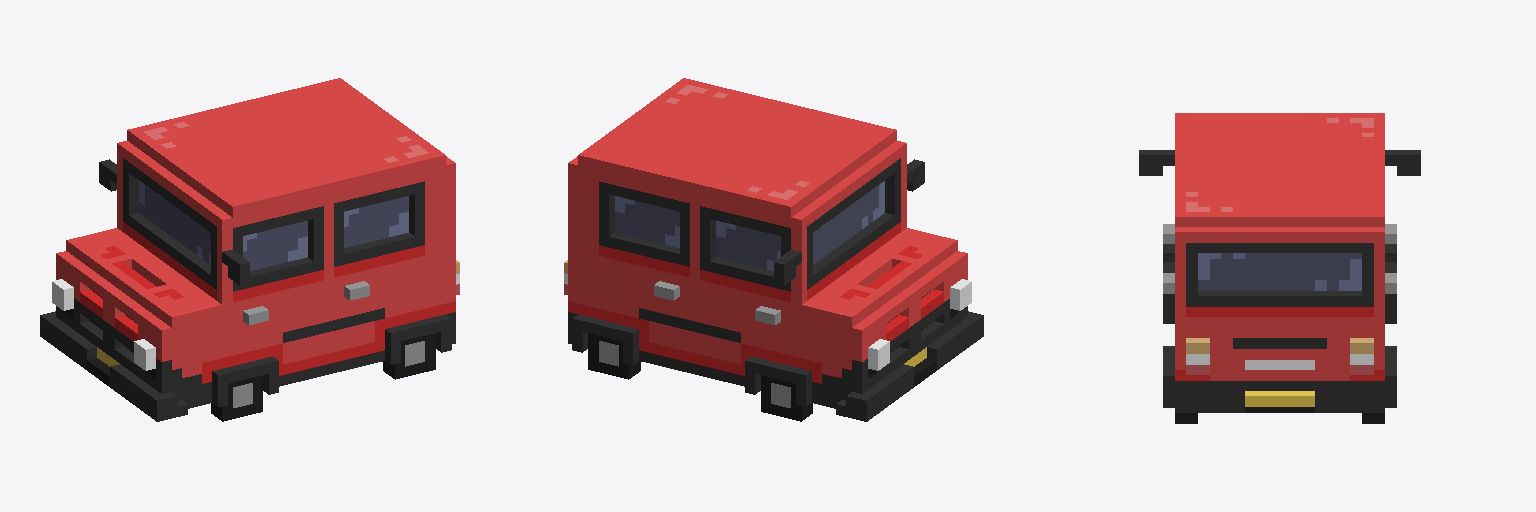
The picture shows the model from 3 angles: view 1: azimuth 30°, elevation 25°; view 2: azimuth 150°, elevation 25°; view 3: azimuth 270°, elevation 25°; orthographic projection.
Parts seen in each view (by area): view 1: Box_87; view 2: Box_87; view 3: Box_87.
Part boxes in pixels (x1,y1,x2,y2): Box_87: (40,78,459,421); Box_87: (564,78,983,421); Box_87: (1139,113,1420,423).
Size of the model in its own units: 31 by 20 by 24.
1 materials, 1 textured.